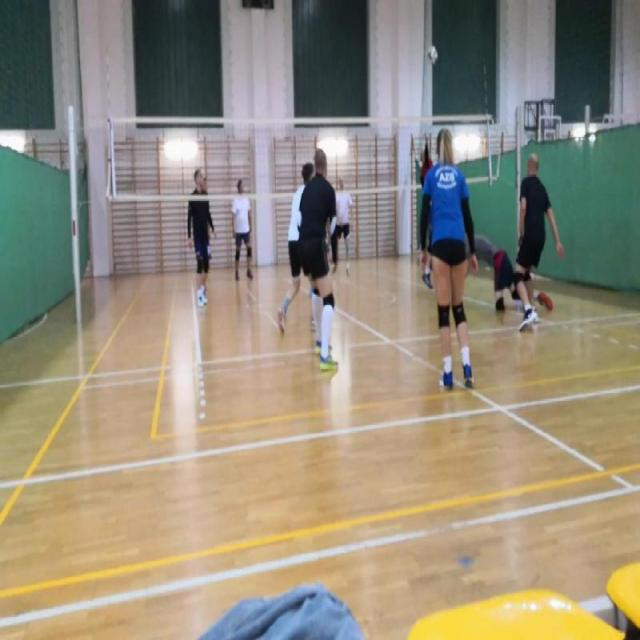volleyball: (428, 45, 437, 64)
